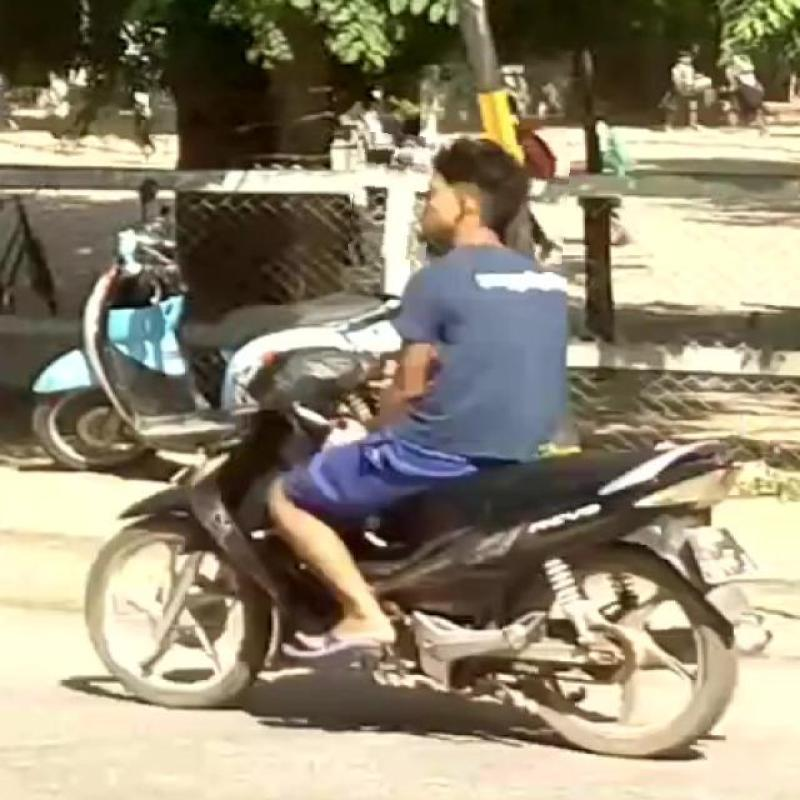nohelmet: (350, 136, 569, 268)
